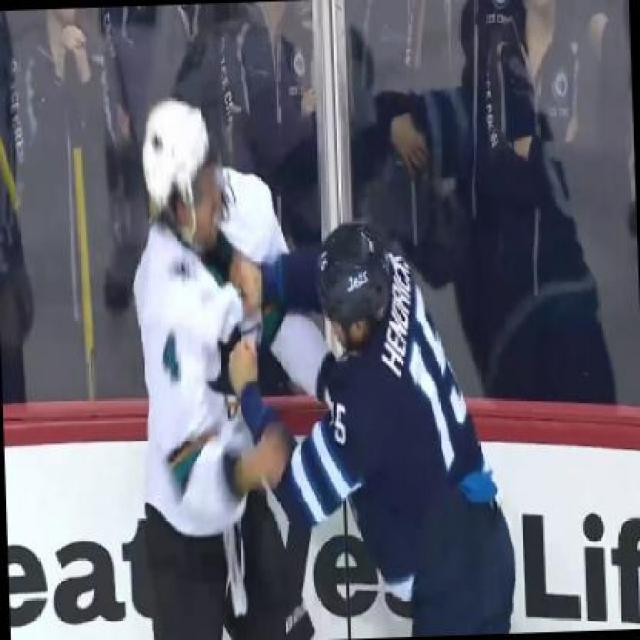fight: (124, 80, 524, 638)
